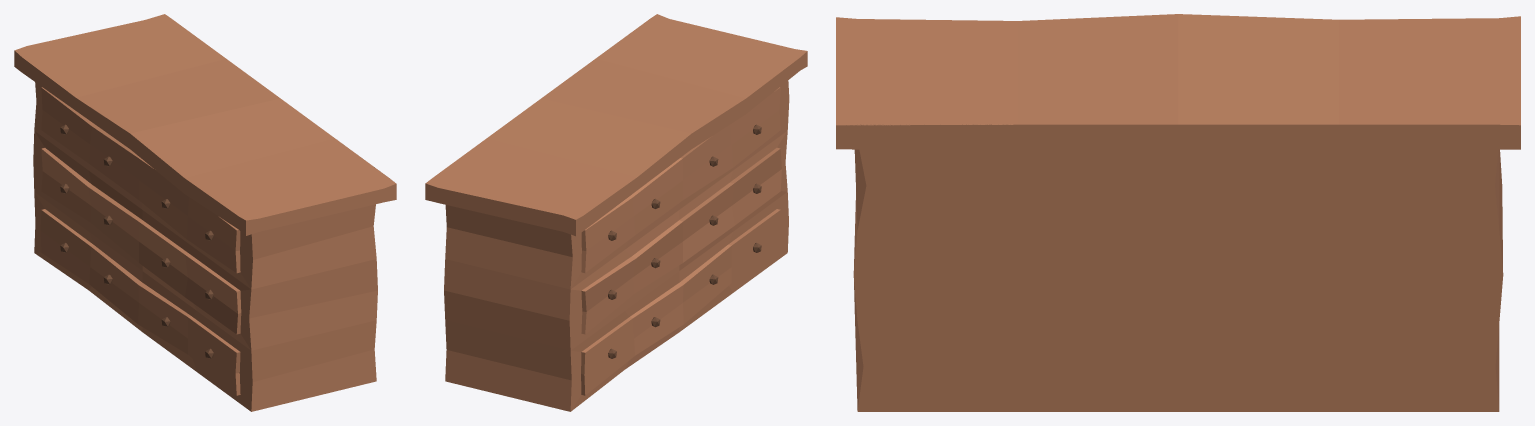
File: dresser_2.fbx
3 renders of one model, left to right at view 1: azimuth 30°, elevation 25°; view 2: azimuth 150°, elevation 25°; view 3: azimuth 270°, elevation 25°, orthographic. The views are drawn at different scales.
Parts seen in each view (by area): view 1: Dresser; view 2: Dresser; view 3: Dresser.
Part boxes in pixels (x1=…): Dresser: x1=14, y1=14, x2=396, y2=411; Dresser: x1=425, y1=14, x2=807, y2=411; Dresser: x1=836, y1=14, x2=1520, y2=411.
Size of the model in its own units: 120 by 154 by 320.
